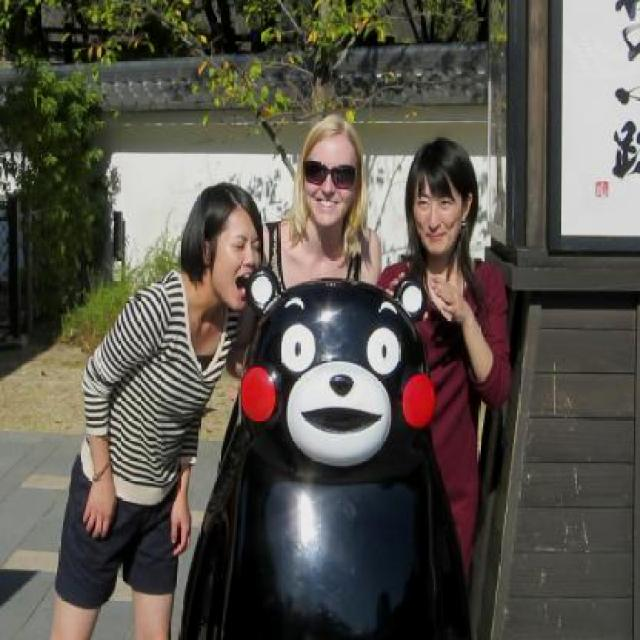face_nomask: (219, 228, 266, 298), (412, 193, 459, 250)
glasses: (303, 155, 360, 188)
hand_noglove: (422, 267, 473, 322), (82, 479, 116, 538), (163, 507, 199, 558)
head_nohelmet: (395, 142, 477, 195), (186, 179, 260, 227), (299, 113, 364, 149)
person: (50, 167, 261, 640), (371, 133, 522, 601), (254, 103, 388, 314)
